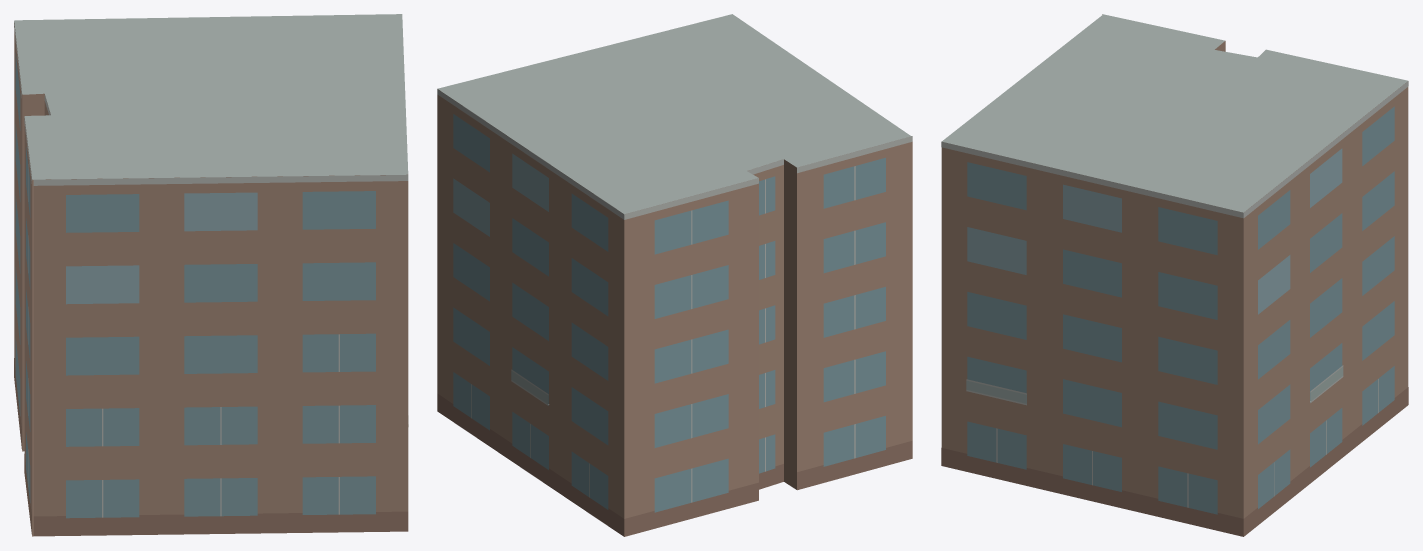
File: survey-upis-32781283.glb
3 renders of one model, left to right at view 1: azimuth 30°, elevation 25°; view 2: azimuth 150°, elevation 25°; view 3: azimuth 270°, elevation 25°, orthographic. The views are drawn at different scales.
Visible parts, largest first — view 1: survey-upis-32781283.tmp; view 2: survey-upis-32781283.tmp; view 3: survey-upis-32781283.tmp.
Boxes of the visible parts, left/top/right/bottom form: survey-upis-32781283.tmp: left=14, top=14, right=408, bottom=536; survey-upis-32781283.tmp: left=437, top=14, right=912, bottom=536; survey-upis-32781283.tmp: left=941, top=14, right=1408, bottom=536.
Size of the model in its own units: 18.27 by 13.9 by 18.15.
